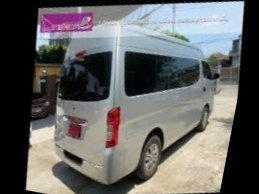van: (31, 0, 241, 194)
